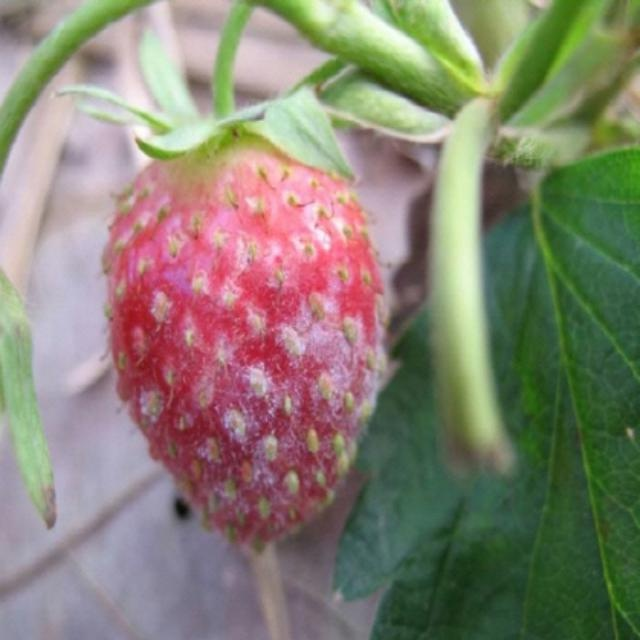Powdery Mildew Fruit: (100, 111, 388, 553)
